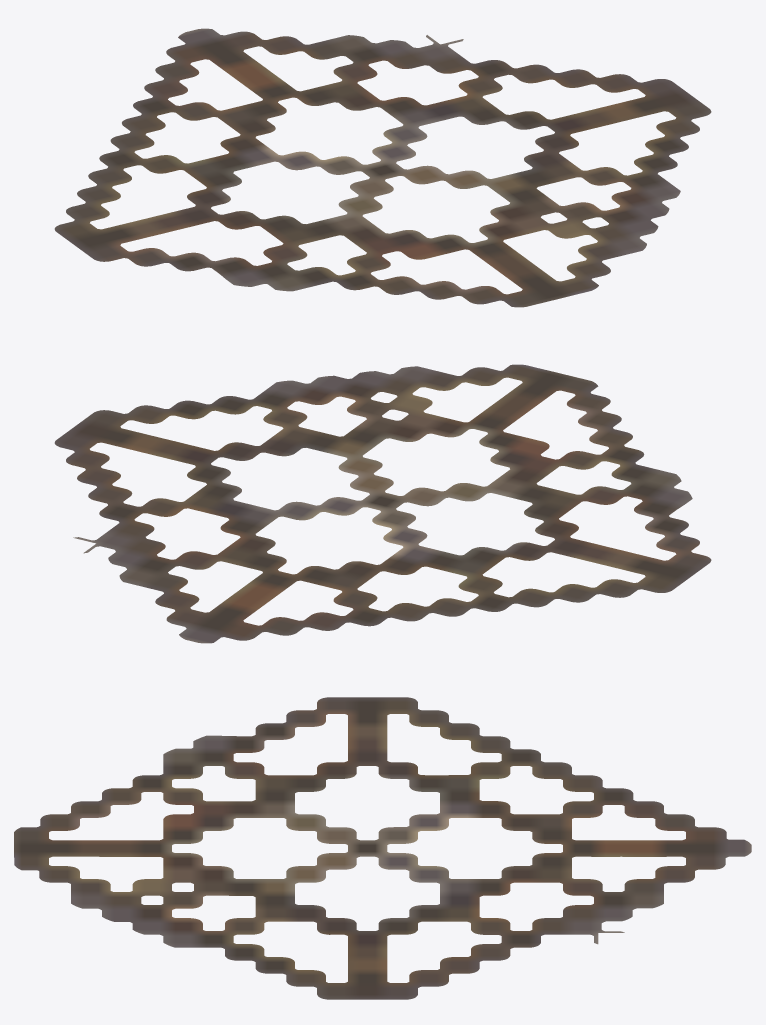
Rendered from ObjMD_Floorpattern_A_lerge.FBX.
The picture shows the model from 3 angles, top to bottom: view 1: azimuth 30°, elevation 25°; view 2: azimuth 150°, elevation 25°; view 3: azimuth 270°, elevation 25°; orthographic projection.
Parts seen in each view (by area): view 1: ObjMD_Floorpattern_A_small; view 2: ObjMD_Floorpattern_A_small; view 3: ObjMD_Floorpattern_A_small.
Part boxes in pixels (x1=…): ObjMD_Floorpattern_A_small: x1=54, y1=28, x2=711, y2=307; ObjMD_Floorpattern_A_small: x1=54, y1=364, x2=711, y2=643; ObjMD_Floorpattern_A_small: x1=14, y1=697, x2=751, y2=999.
Size of what is drawn, in the model's own units: 156 by 9.1e-15 by 150.
